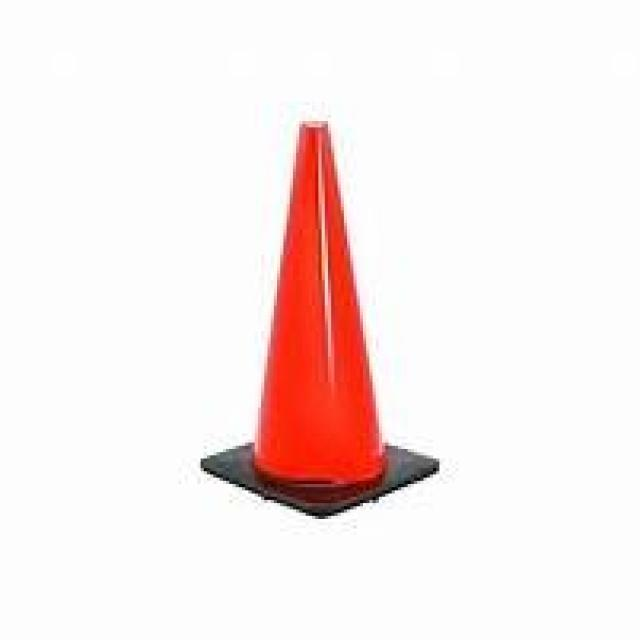traffic cone: (188, 114, 450, 524)
